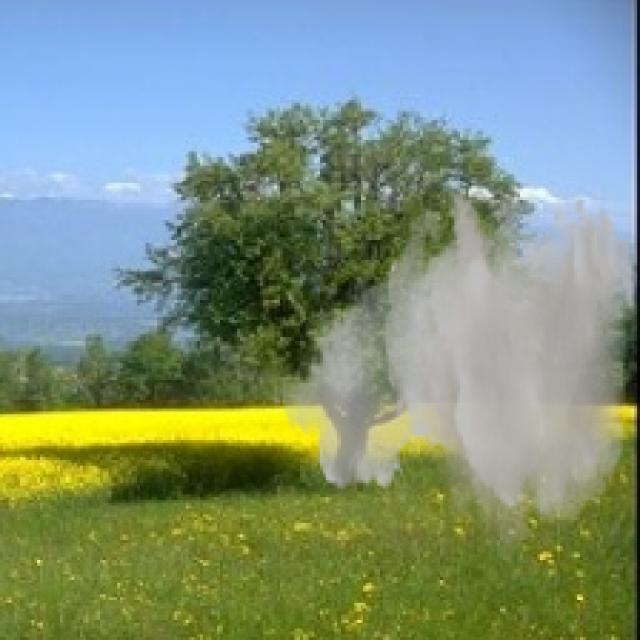smoke: (272, 188, 637, 572)
